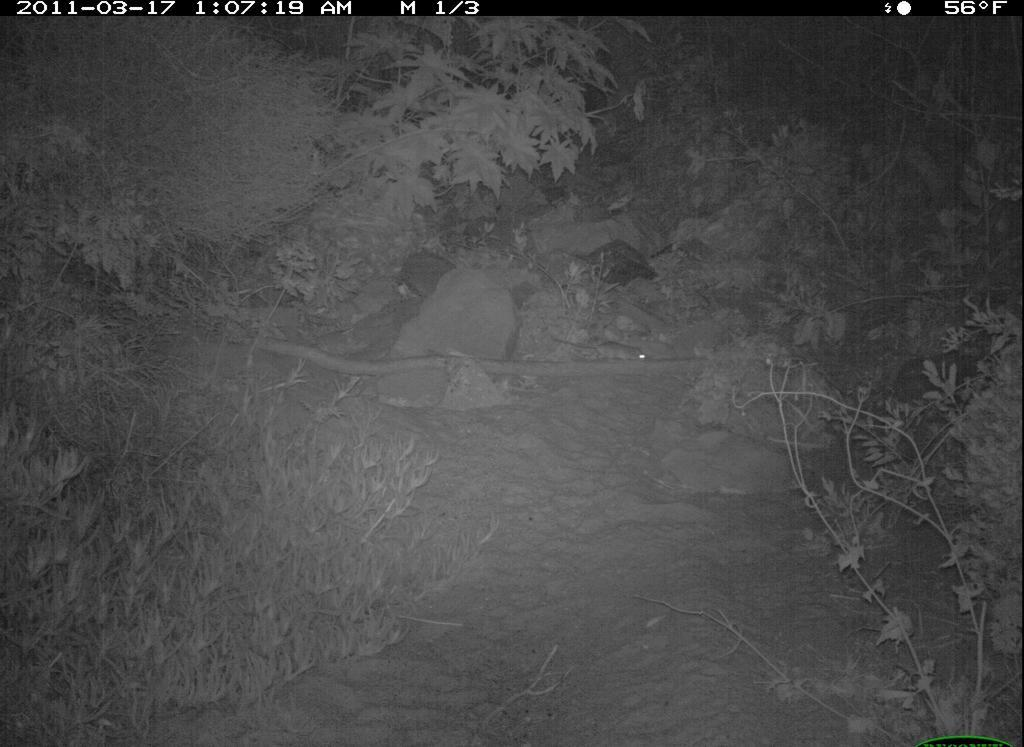rodent: (562, 309, 670, 388)
